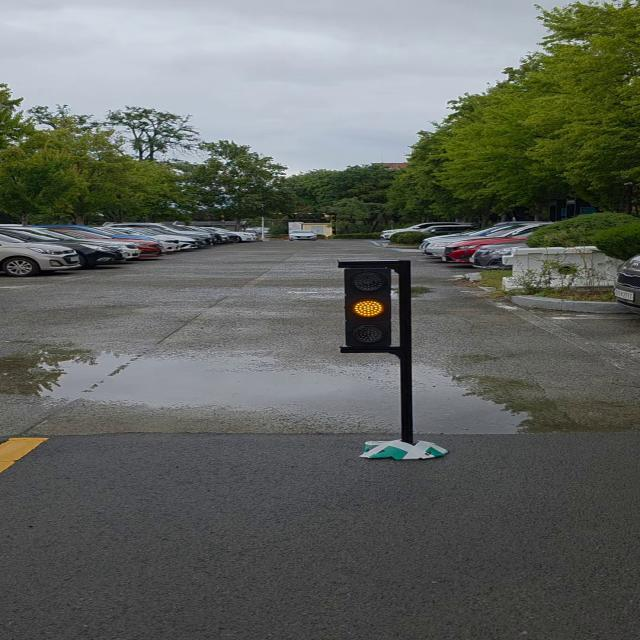yellow: (344, 262, 397, 352)
